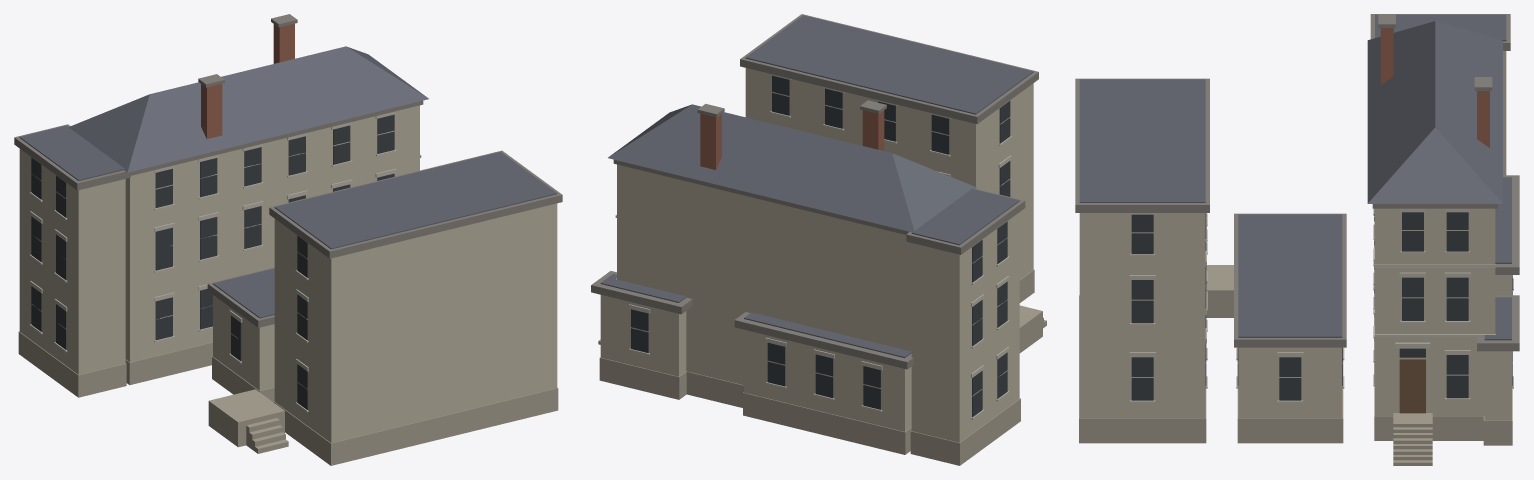
Rendered from house_213_e18th__draft_1904.glb.
The picture shows the model from 3 angles, left to right: view 1: azimuth 30°, elevation 25°; view 2: azimuth 150°, elevation 25°; view 3: azimuth 270°, elevation 25°; orthographic projection. The views are drawn at different scales.
Visible parts, largest first — view 1: house_213_e18th__draft_1904; view 2: house_213_e18th__draft_1904; view 3: house_213_e18th__draft_1904.
Boxes of the visible parts, x1,y1,x2,y2 form: house_213_e18th__draft_1904: (14,14,562,465); house_213_e18th__draft_1904: (591,14,1046,465); house_213_e18th__draft_1904: (1075,14,1519,465).
Size of the model in its own units: 22.94 by 15.7 by 20.3.
